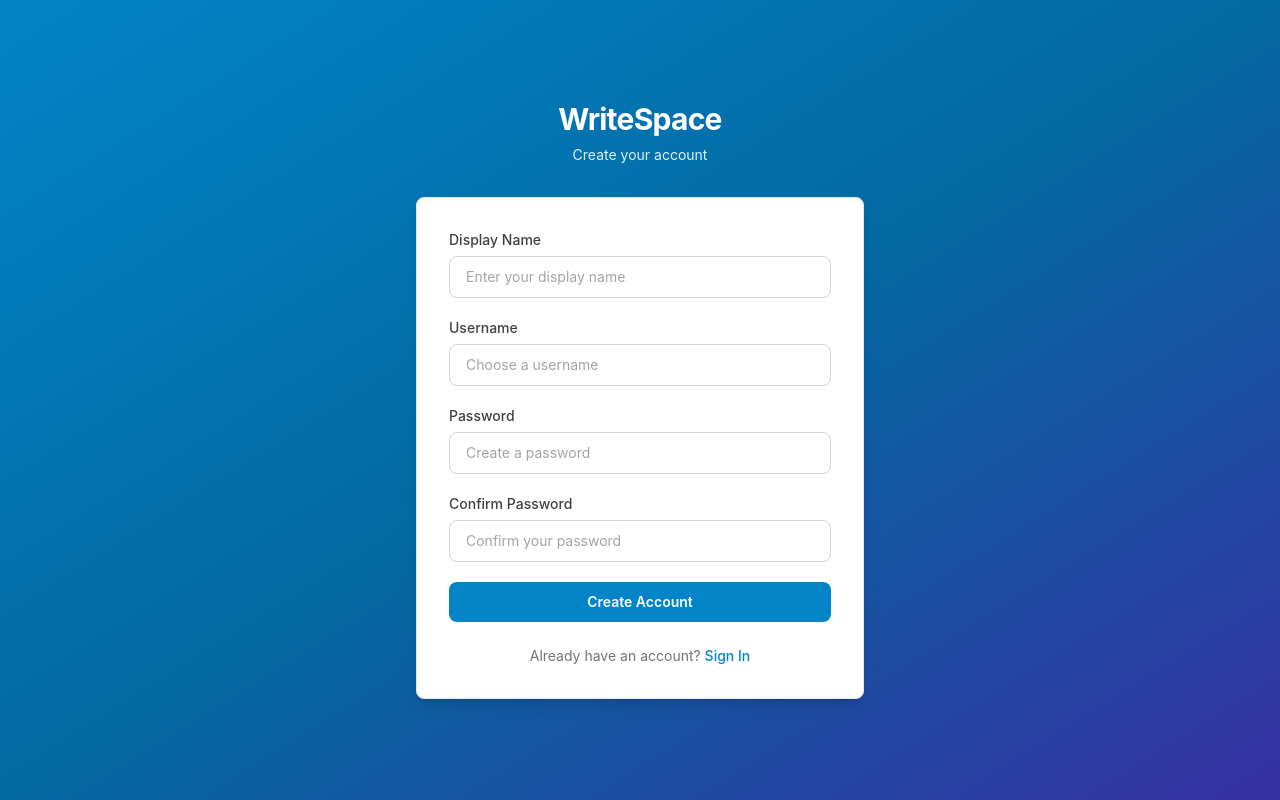
Test: RegisterPage › form validation › shows error when display name is empty
Type "testuser" into the field labelled "Username" at coordinates (640, 365), box 449,344 -> 831,386
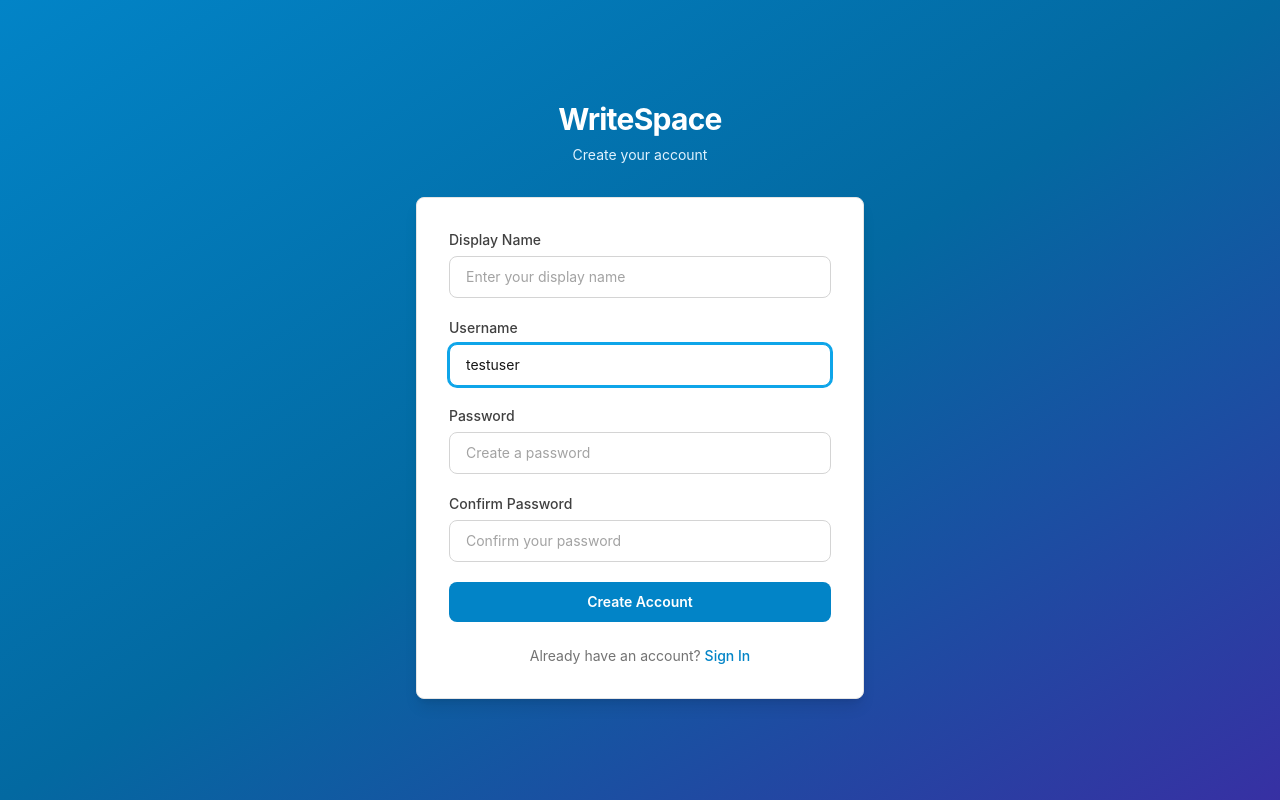
Type "pass123" into the password field labelled "Password" at coordinates (640, 453), box 449,432 -> 831,474
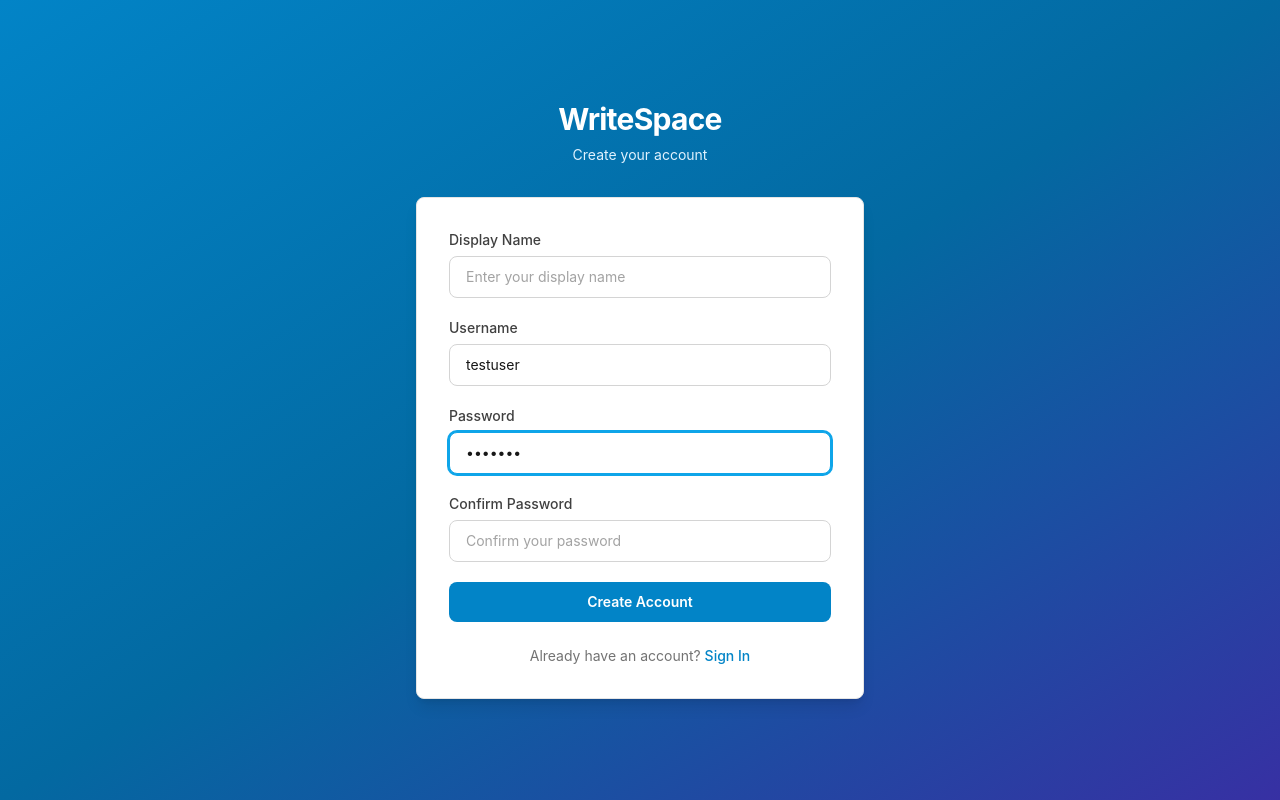
Type "pass123" into the password field labelled "Confirm Password" at coordinates (640, 541), box 449,520 -> 831,562
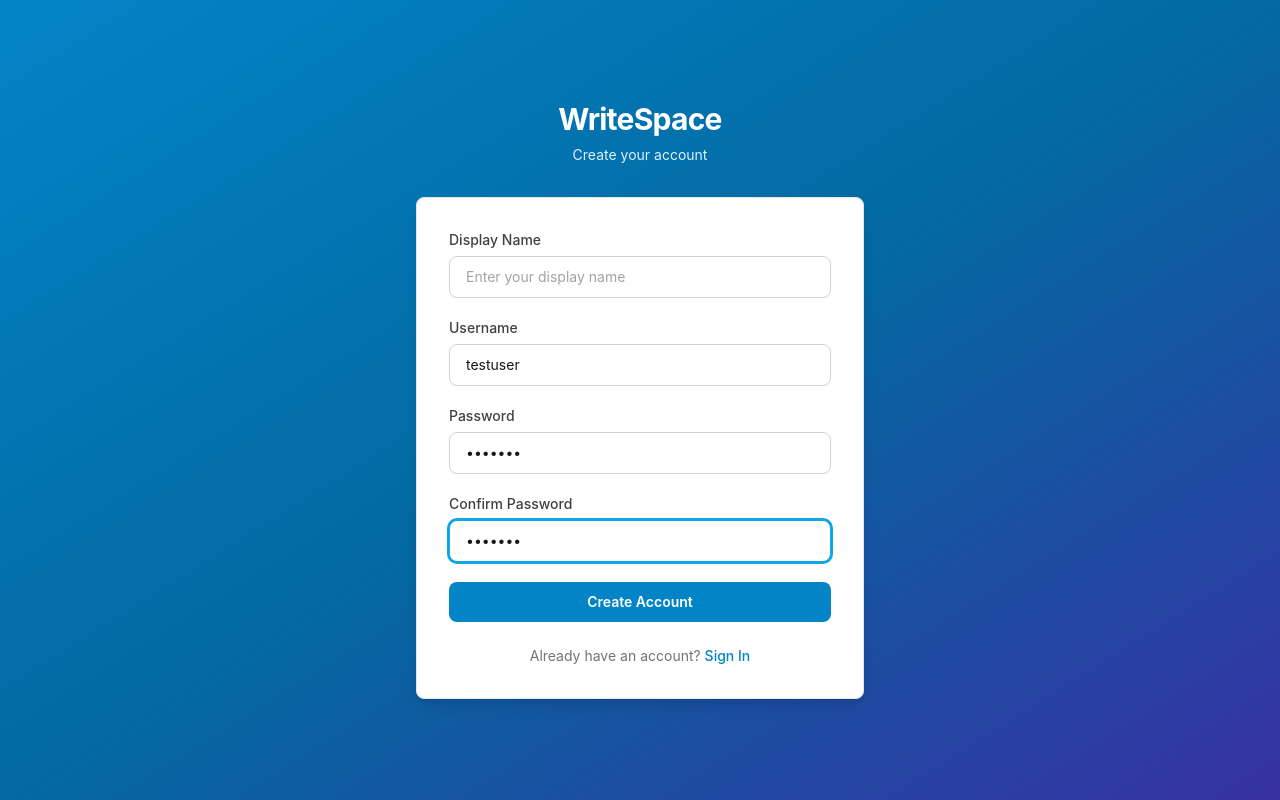
Click the button "Create Account" at coordinates (640, 602), box 449,582 -> 831,622
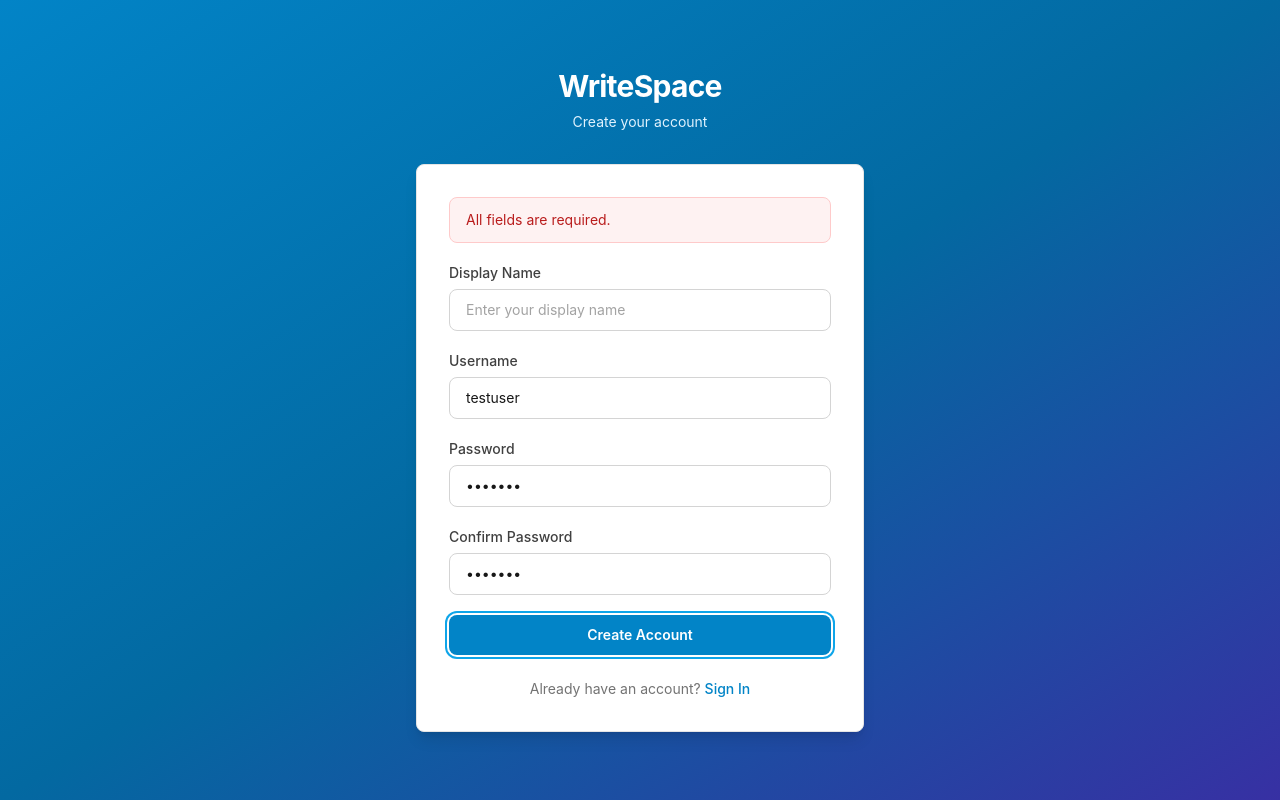
Expected: the text "All fields are required." is shown, 449,197 -> 831,243
